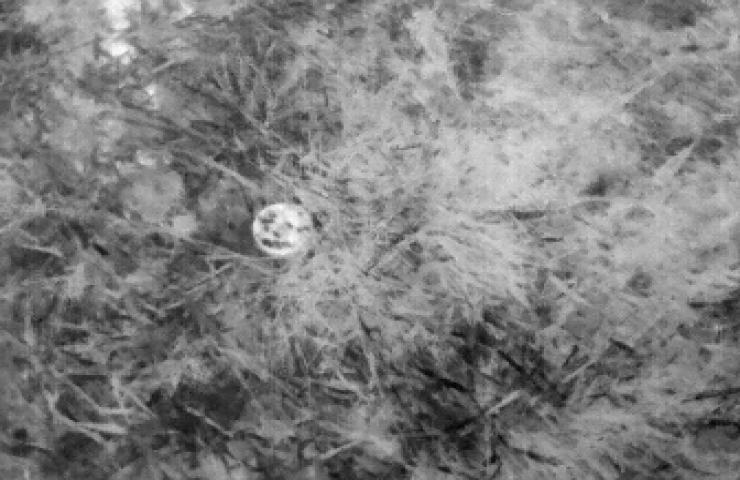landmines: (249, 198, 318, 260)
